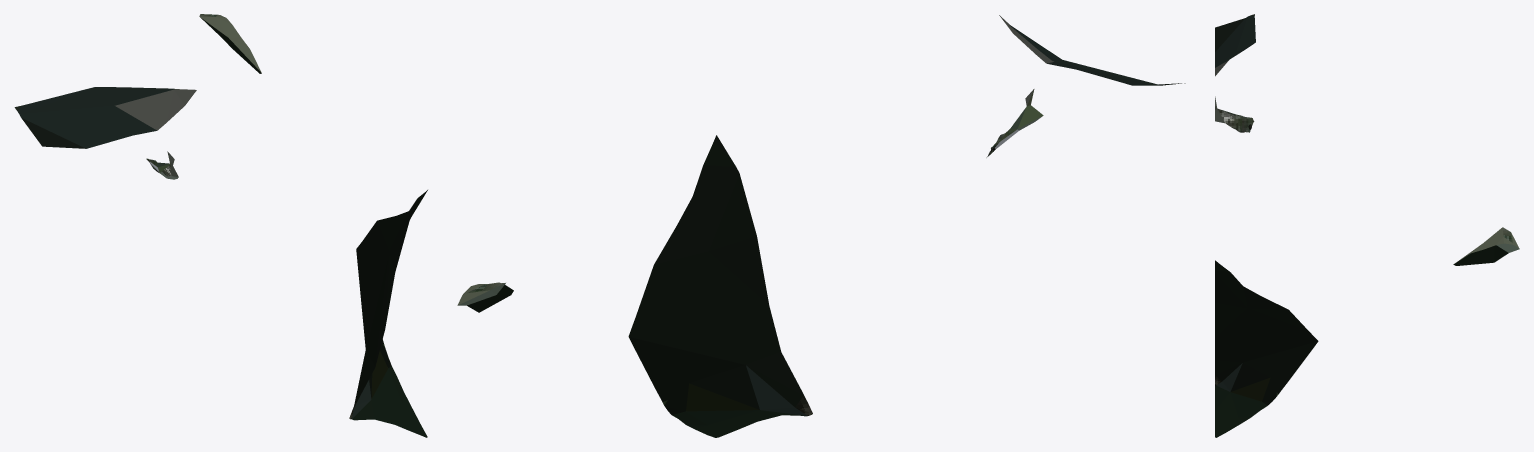
3 views of the same model, side by side, from view 1: azimuth 30°, elevation 25°; view 2: azimuth 150°, elevation 25°; view 3: azimuth 270°, elevation 25° (orthographic). The views are drawn at different scales.
Bounding box in the file's own units: 1.97 × 1.97 × 1.88.
1 material, 1 textured.
